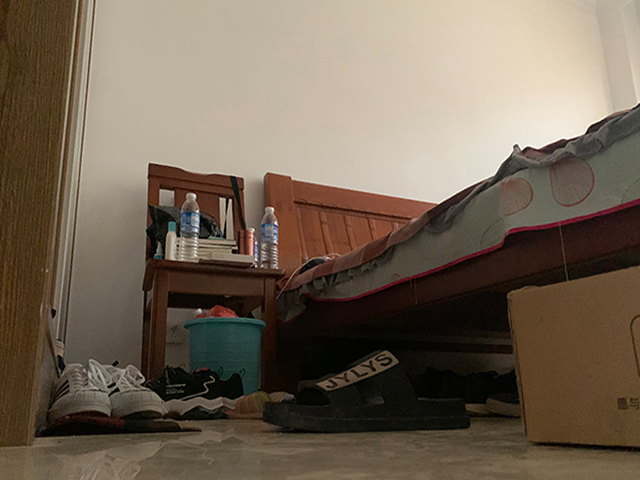bed: (262, 98, 640, 394)
slippers: (261, 349, 471, 434), (224, 388, 285, 419)
stool: (141, 162, 286, 393)
trashcan: (183, 315, 267, 393)
